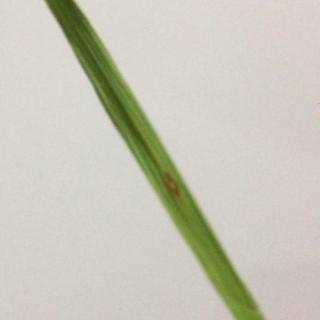Blast: (150, 153, 202, 227)
